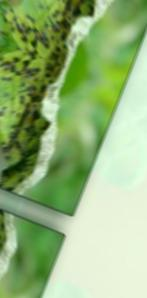Tomato Septoria leaf spot: (0, 26, 89, 200)
